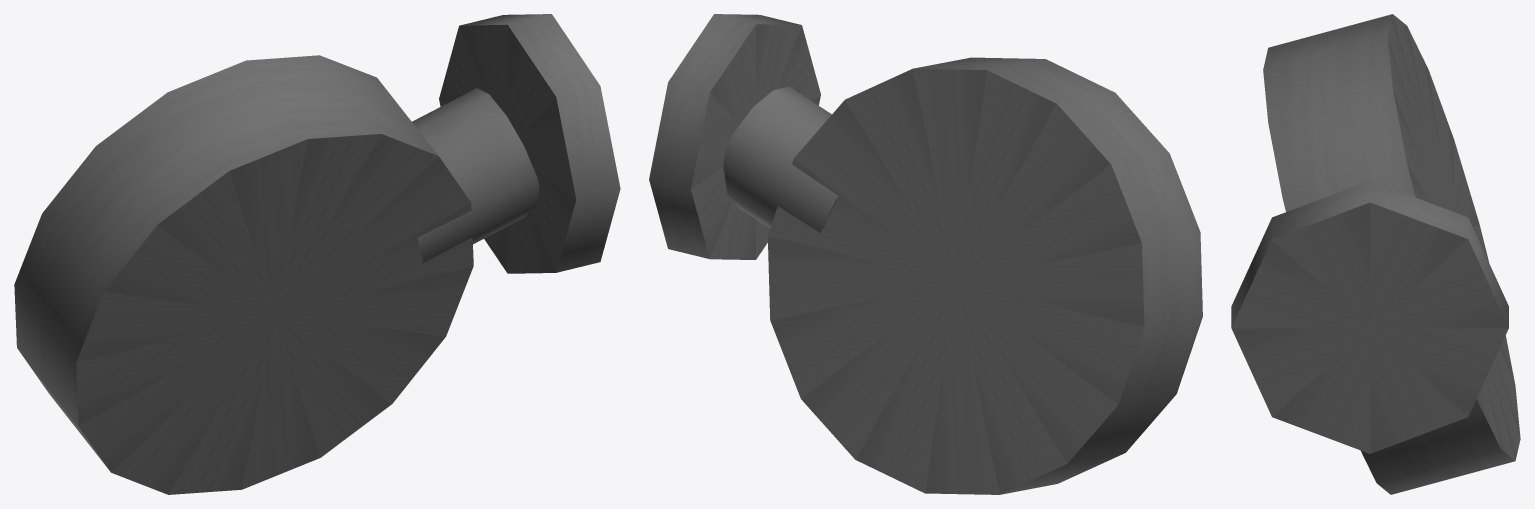
File: mastarmcurve_10x2_c3_east.obj
The picture shows the model from 3 angles, left to right: view 1: azimuth 30°, elevation 25°; view 2: azimuth 150°, elevation 25°; view 3: azimuth 270°, elevation 25°; orthographic projection. The views are drawn at different scales.
Visible parts, largest first — view 1: mastarm_10x2_c3_east; view 2: mastarm_10x2_c3_east; view 3: mastarm_10x2_c3_east.
Boxes of the visible parts, x1,y1,x2,y2 form: mastarm_10x2_c3_east: (14,14,620,494); mastarm_10x2_c3_east: (649,14,1202,494); mastarm_10x2_c3_east: (1231,14,1520,494).
Size of the model in its own units: 0.8336 by 0.6942 by 0.4168.
